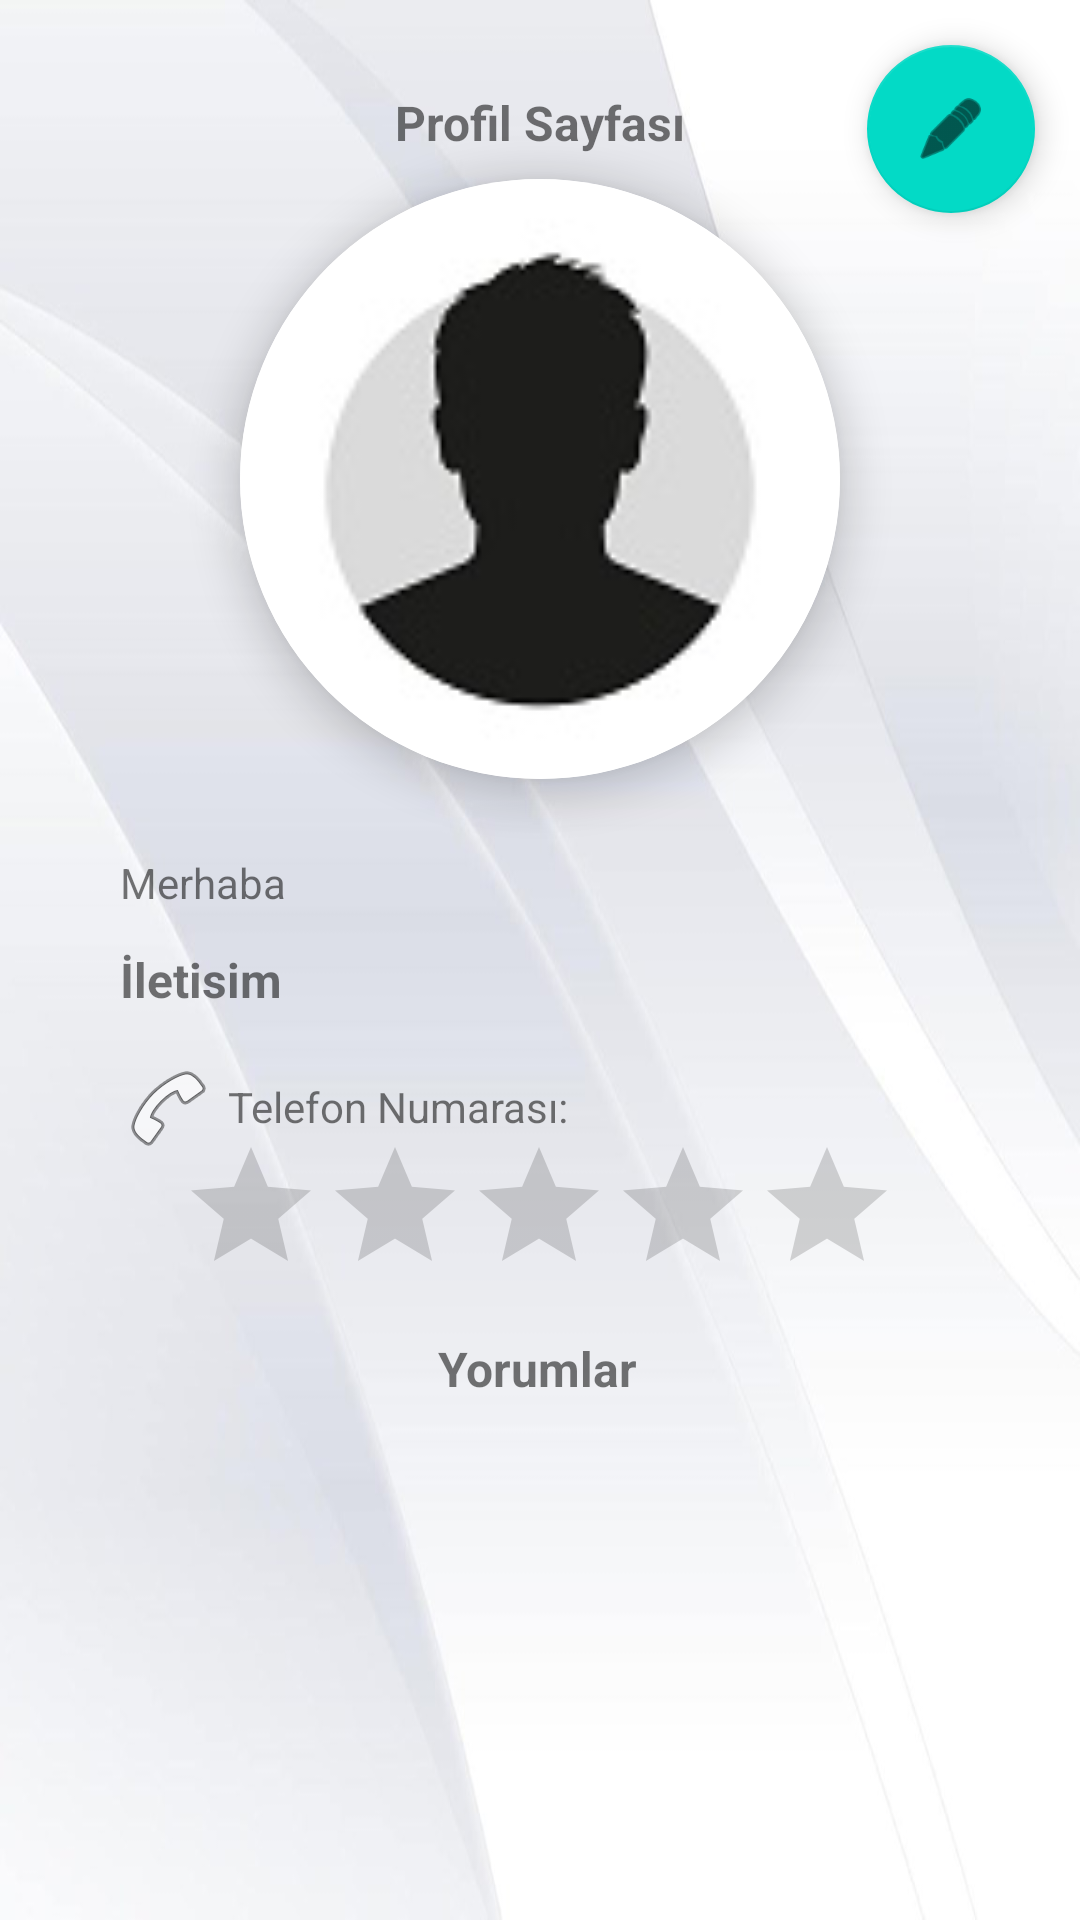

Icon click points for this 1080×1920 phone screenshot, format [x,y]:
call: [168,1108]
edit: [951,129]
